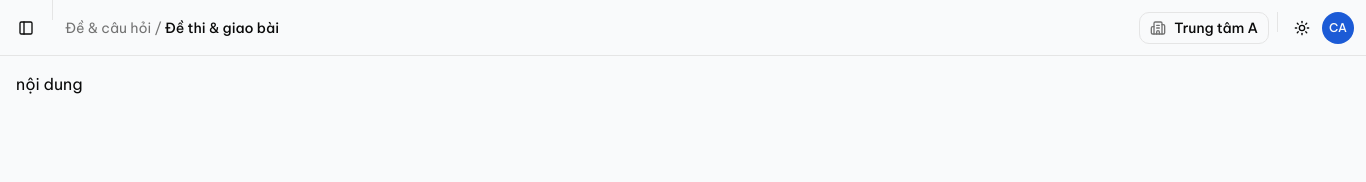
AppShell › has the org selector, theme and user menu at the top right
Expected: the dropdown named "Chọn tổ chức" reads "Trung tâm A", 1139,12 -> 1269,44
Expected: the button named "Giao diện" is shown, 1286,12 -> 1318,44
Click the button with aria-label "Tài khoản" at (1338, 28), box 1322,12 -> 1354,44
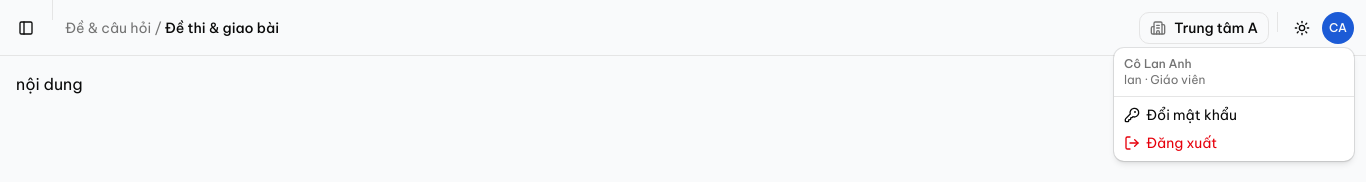
Expected: the menu shows "Cô Lan Anh", 1124,56 -> 1192,71
Expected: the menu shows "Giáo viên", 1150,72 -> 1205,87
Expected: the menu item "Đổi mật khẩu" is shown, 1124,106 -> 1237,124
